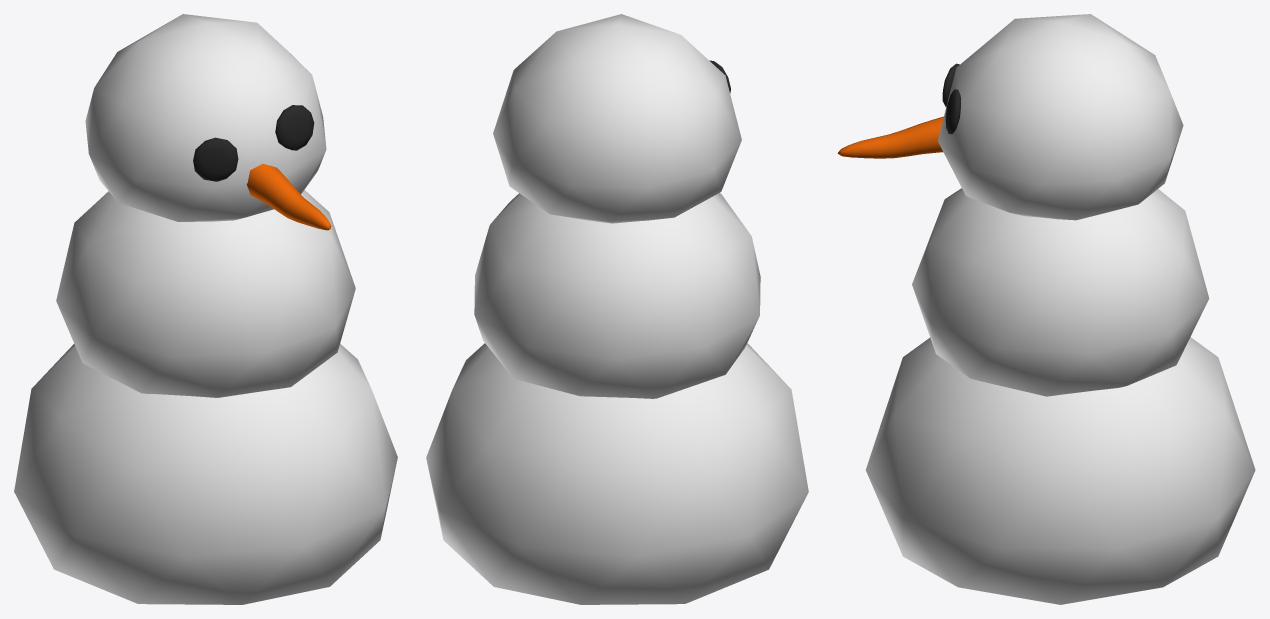
The model's file is Snowman.fbx.
The picture shows the model from 3 angles, left to right: view 1: azimuth 30°, elevation 25°; view 2: azimuth 150°, elevation 25°; view 3: azimuth 270°, elevation 25°; orthographic projection.
Parts seen in each view (by area): view 1: Snowman; view 2: Snowman; view 3: Snowman.
Part boxes in pixels (left/top/right/bottom): Snowman: left=14, top=14, right=397, bottom=604; Snowman: left=426, top=14, right=808, bottom=604; Snowman: left=837, top=14, right=1255, bottom=604.
Size of the model in its own units: 4.06 by 6.4 by 4.58.
